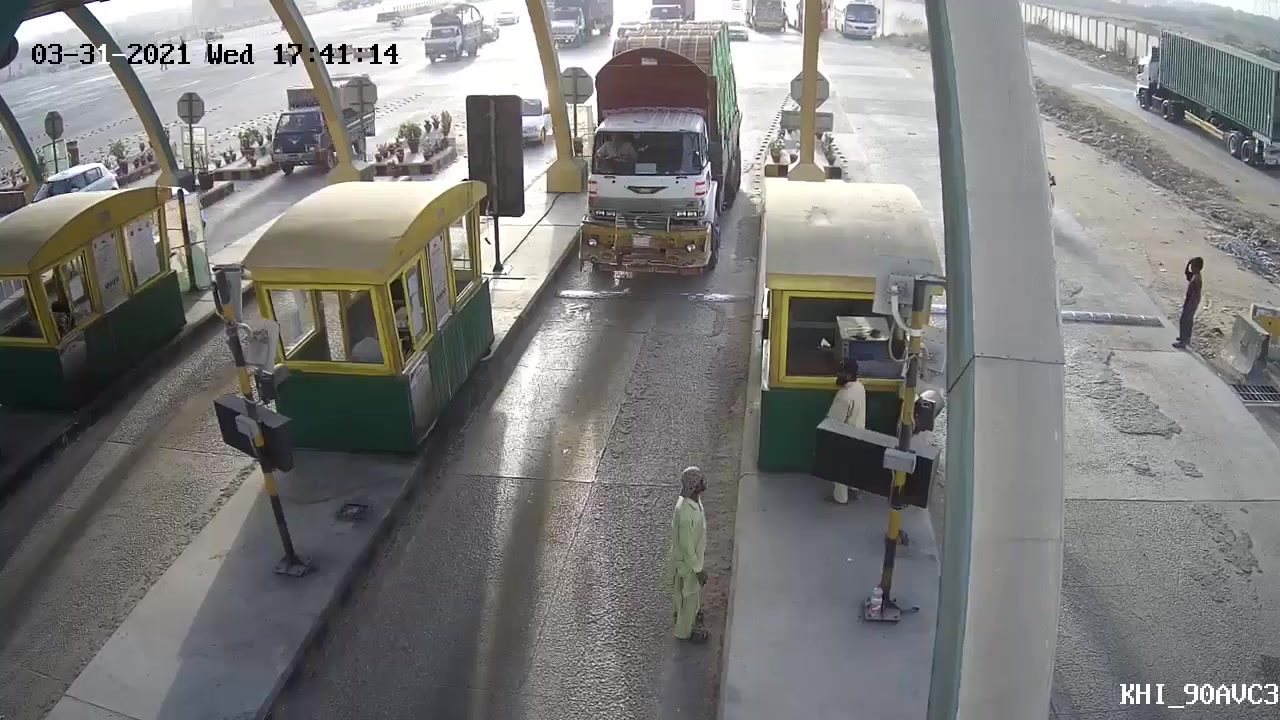F5: (565, 13, 747, 287)
